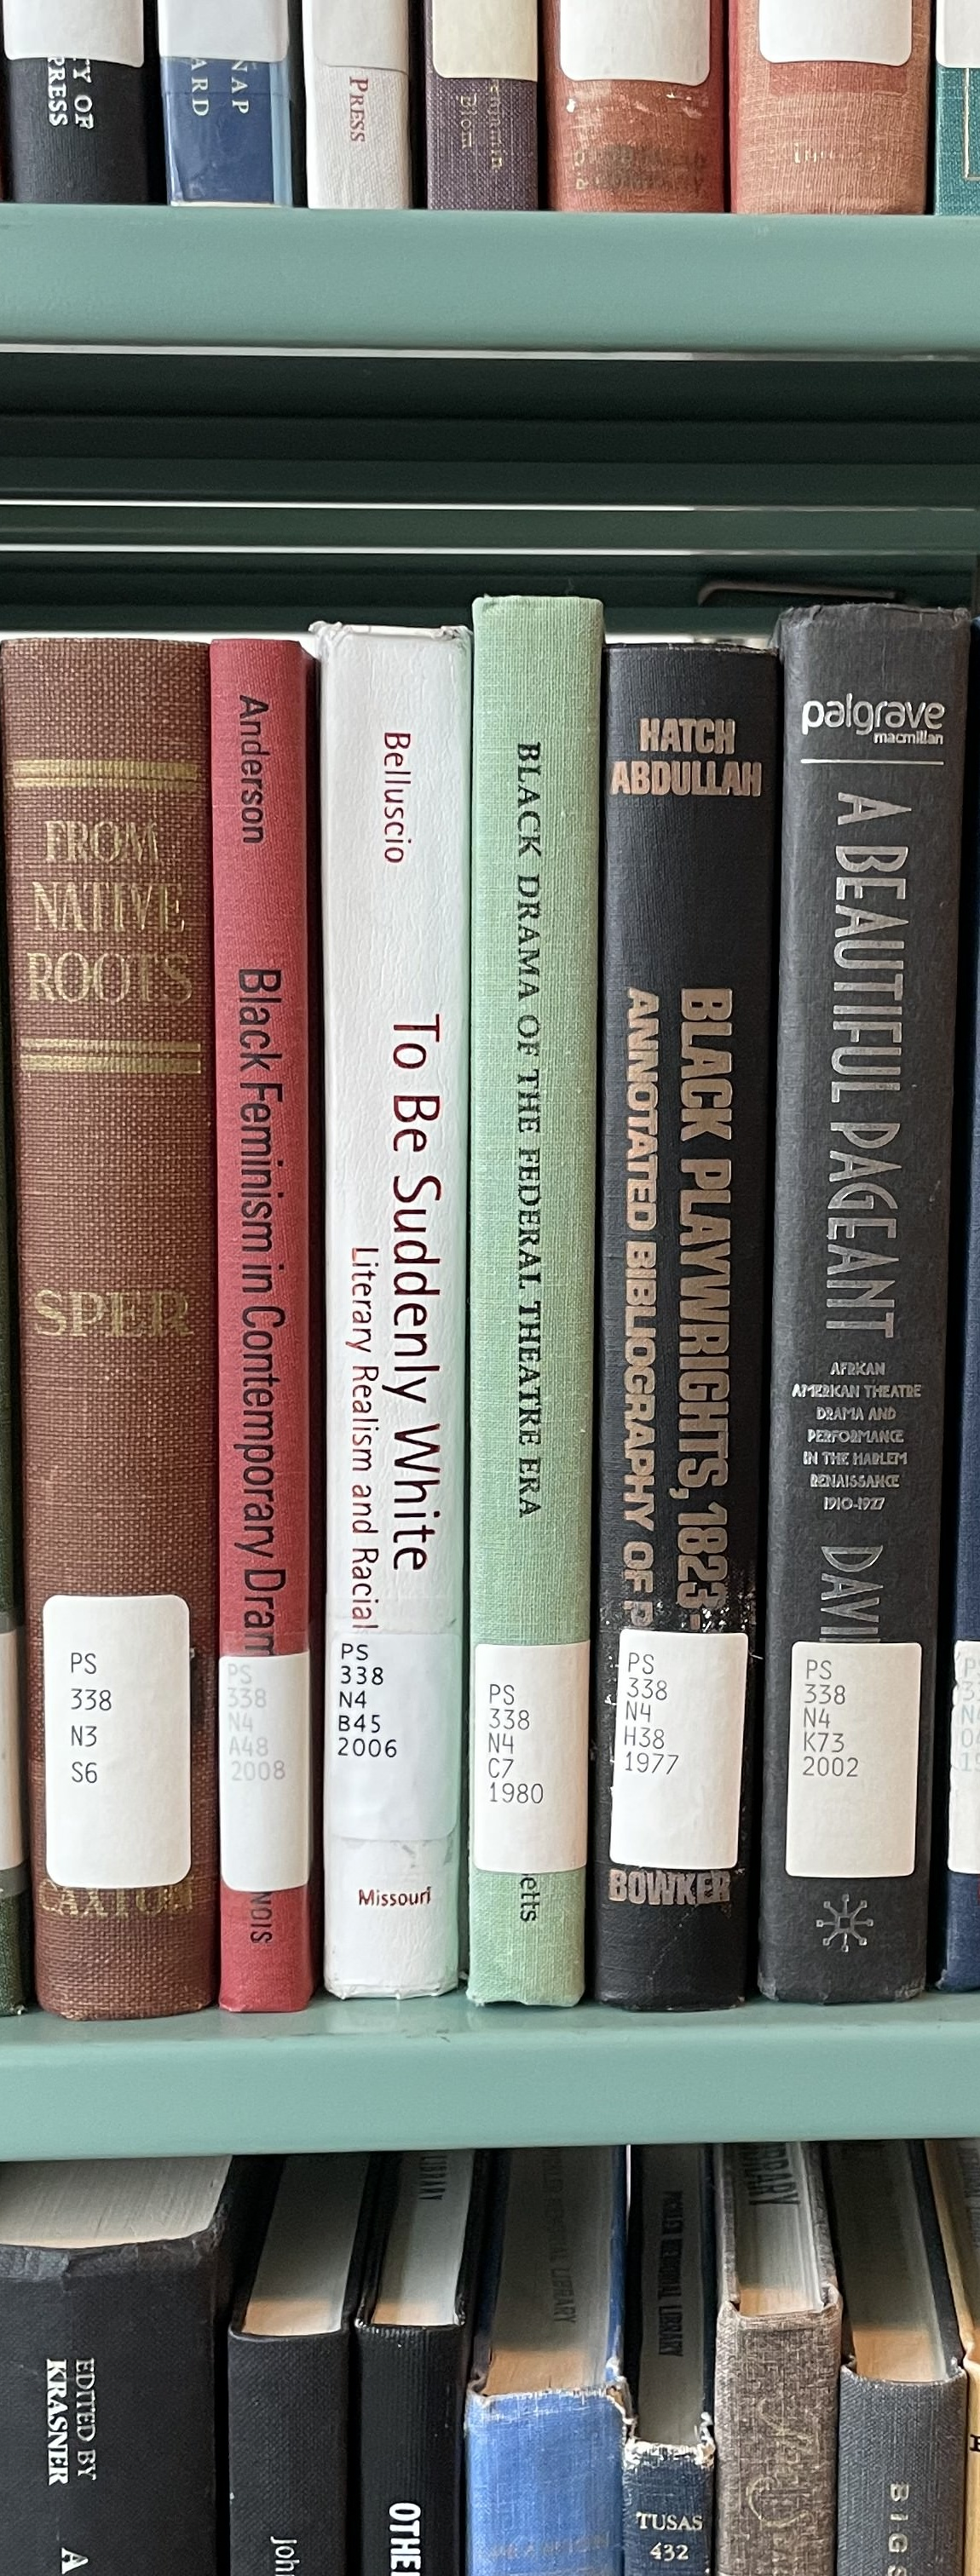call_number: (43, 1594, 189, 1888), (613, 1628, 738, 1868), (789, 1649, 914, 1879), (474, 1644, 584, 1871), (332, 1635, 451, 1840), (219, 1658, 309, 1889)
